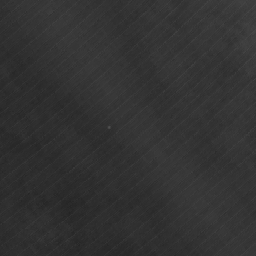Target: (105, 123, 111, 131)
